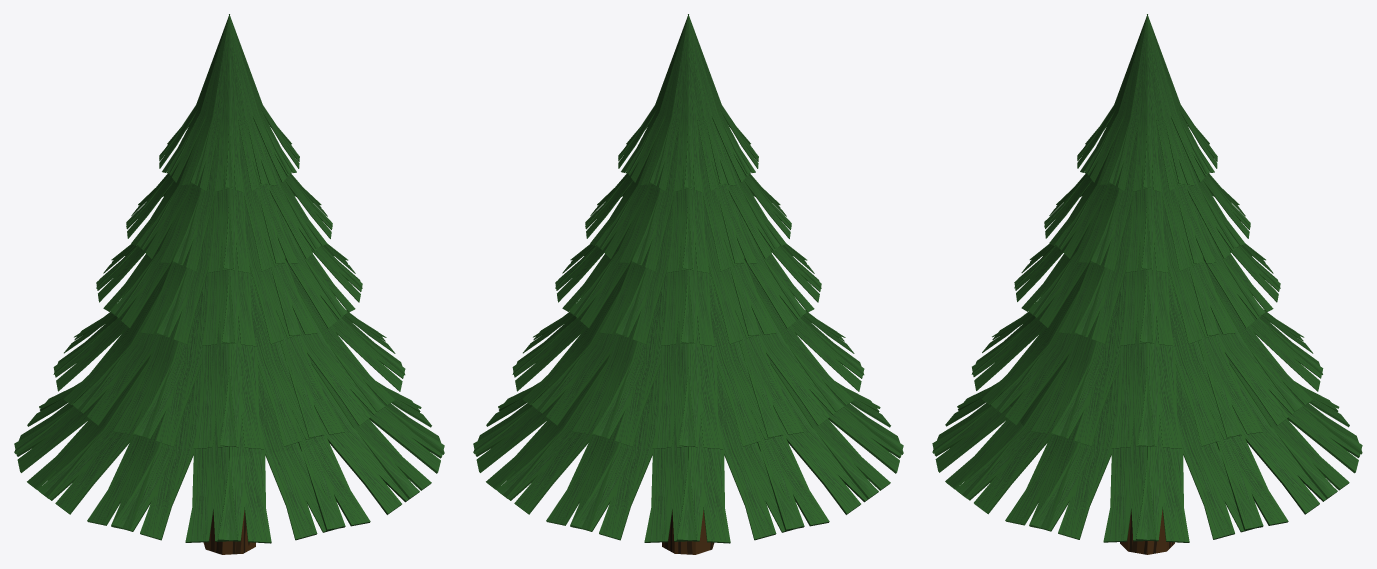
The model's file is ChristmasTree.fbx.
3 views of the same model, side by side, from view 1: azimuth 30°, elevation 25°; view 2: azimuth 150°, elevation 25°; view 3: azimuth 270°, elevation 25° (orthographic).
Visible parts, largest first — view 1: polySurface134, pCylinder86; view 2: polySurface134, pCylinder86; view 3: polySurface134, pCylinder86.
Part boxes in pixels (bbox=[...]): polySurface134: bbox=[14, 14, 444, 543]; pCylinder86: bbox=[203, 510, 255, 554]; polySurface134: bbox=[473, 14, 903, 543]; pCylinder86: bbox=[662, 510, 714, 554]; polySurface134: bbox=[932, 14, 1362, 542]; pCylinder86: bbox=[1120, 509, 1174, 554].
Size of the model in its own units: 4.7 by 6.37 by 4.7.
2 materials, 2 textured.
